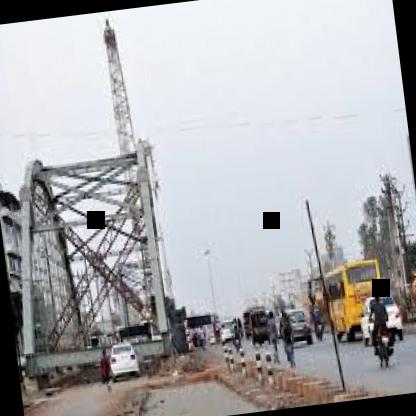car: (302, 228, 410, 372), (349, 289, 416, 349), (101, 329, 147, 392), (278, 291, 316, 353)
